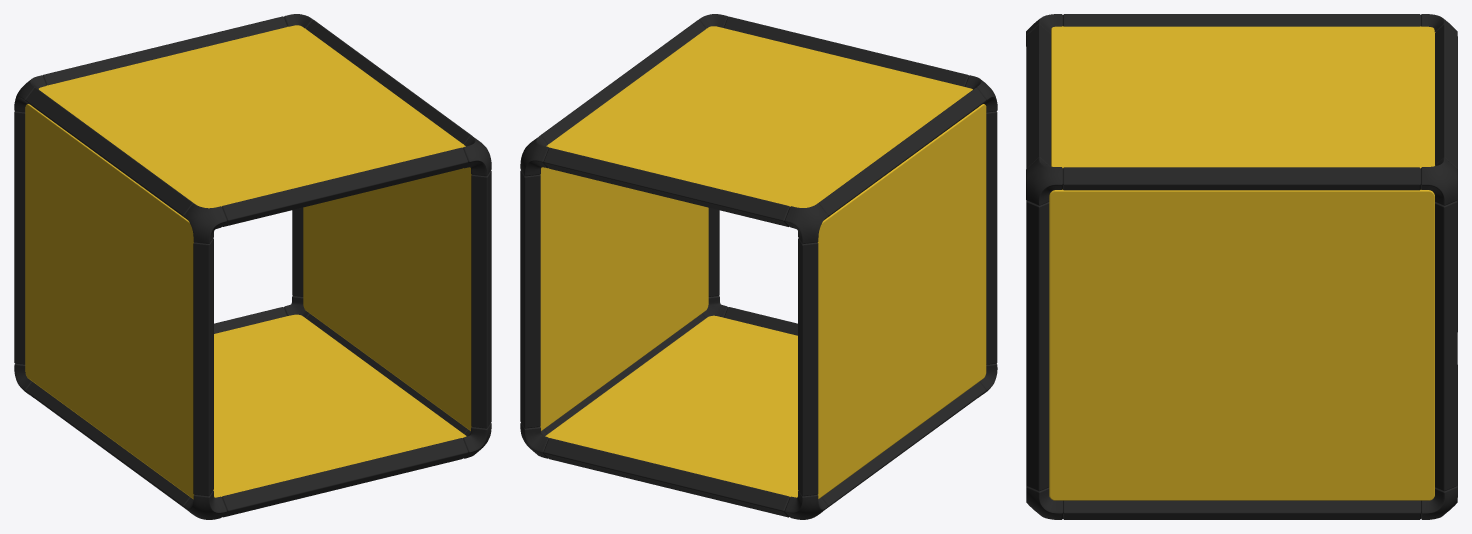
3 views of the same model, side by side, from view 1: azimuth 30°, elevation 25°; view 2: azimuth 150°, elevation 25°; view 3: azimuth 270°, elevation 25° (orthographic). The views are drawn at different scales.
Parts seen in each view (by area): view 1: 329x374x329; view 2: 329x374x329; view 3: 329x374x329.
Part boxes in pixels (x1,y1,x2,y2): 329x374x329: (14,14,491,519); 329x374x329: (520,14,997,519); 329x374x329: (1026,14,1457,519).
Size of the model in its own units: 0.4068 by 0.4065 by 0.4513.
